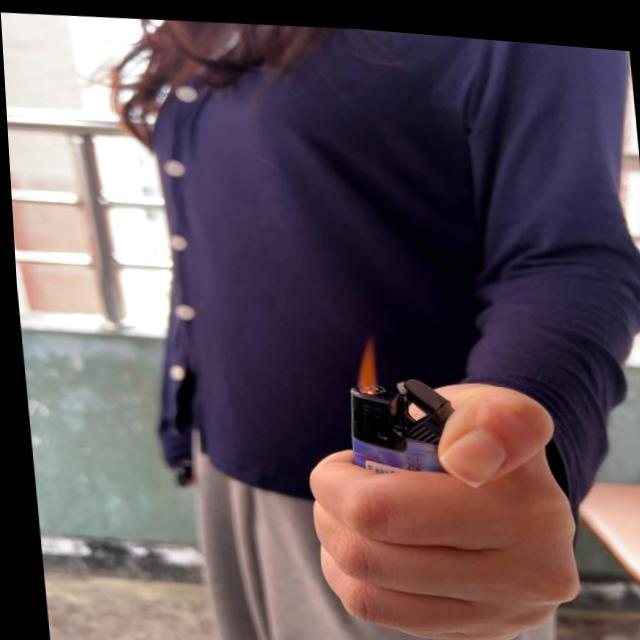helmet: (345, 326, 375, 387)
